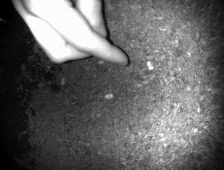corn: (145, 59, 155, 72), (102, 91, 115, 101), (58, 76, 67, 87), (96, 58, 106, 67)
